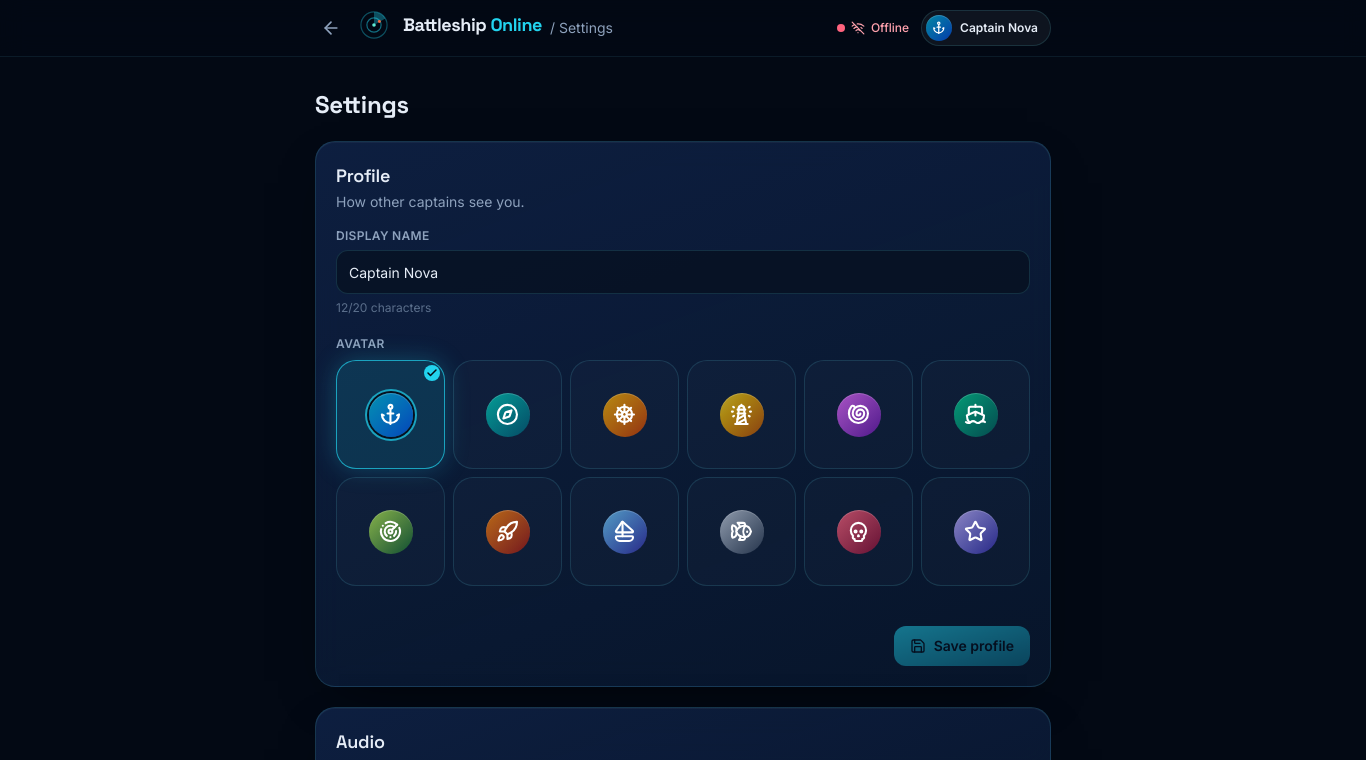
SettingsScreen › saves the profile via api.updateMe and updates the store
The width and height of the screenshot is (1366, 760).
Expected: the button "Save profile" is disabled, [894,626,1030,666]
Replace the text in the field labelled "Display name 12/20 characters" with "  Admiral Nova " at (683, 272), box [349,251,1017,293]
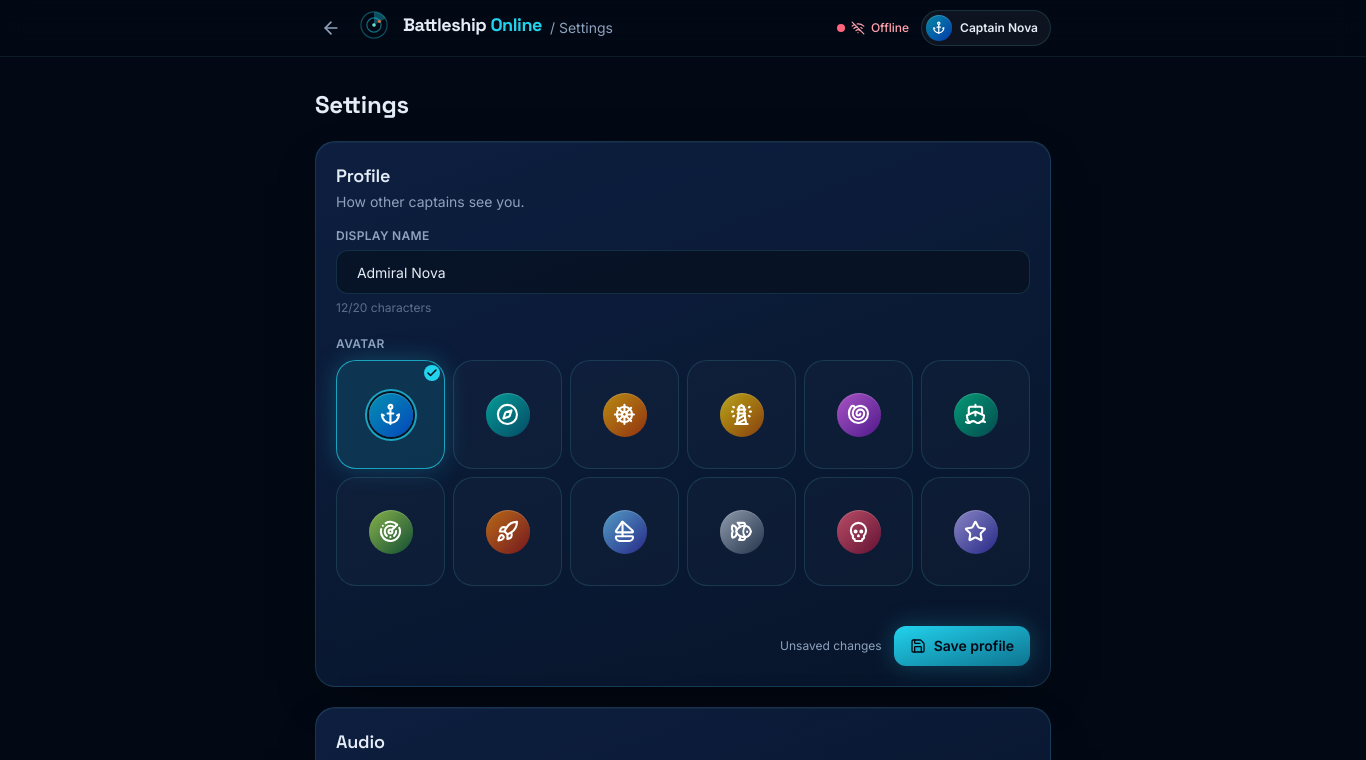
Click the radio button named "Jolly Roger" at (858, 532), box [804,477,913,586]
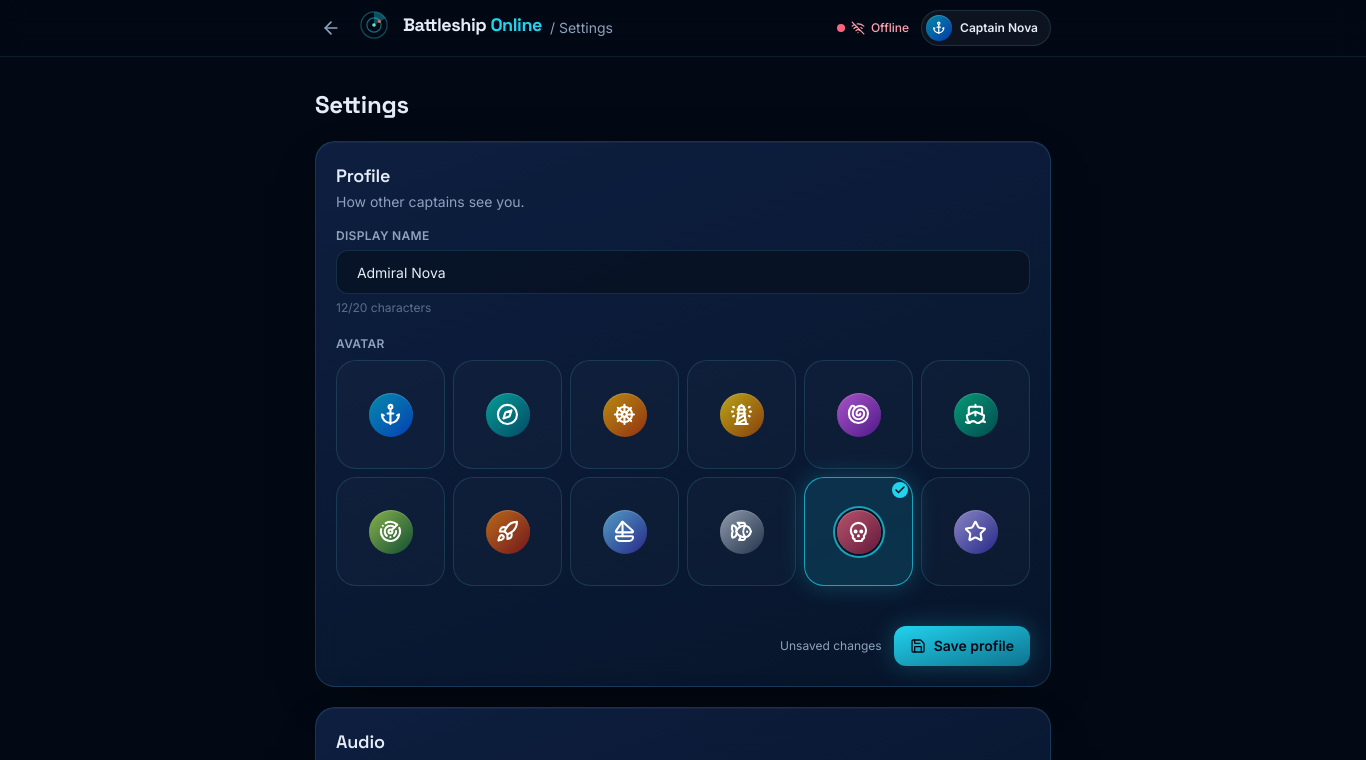
Expected: the button "Save profile" is enabled
Click the button "Save profile" at (962, 646), box [894,626,1030,666]
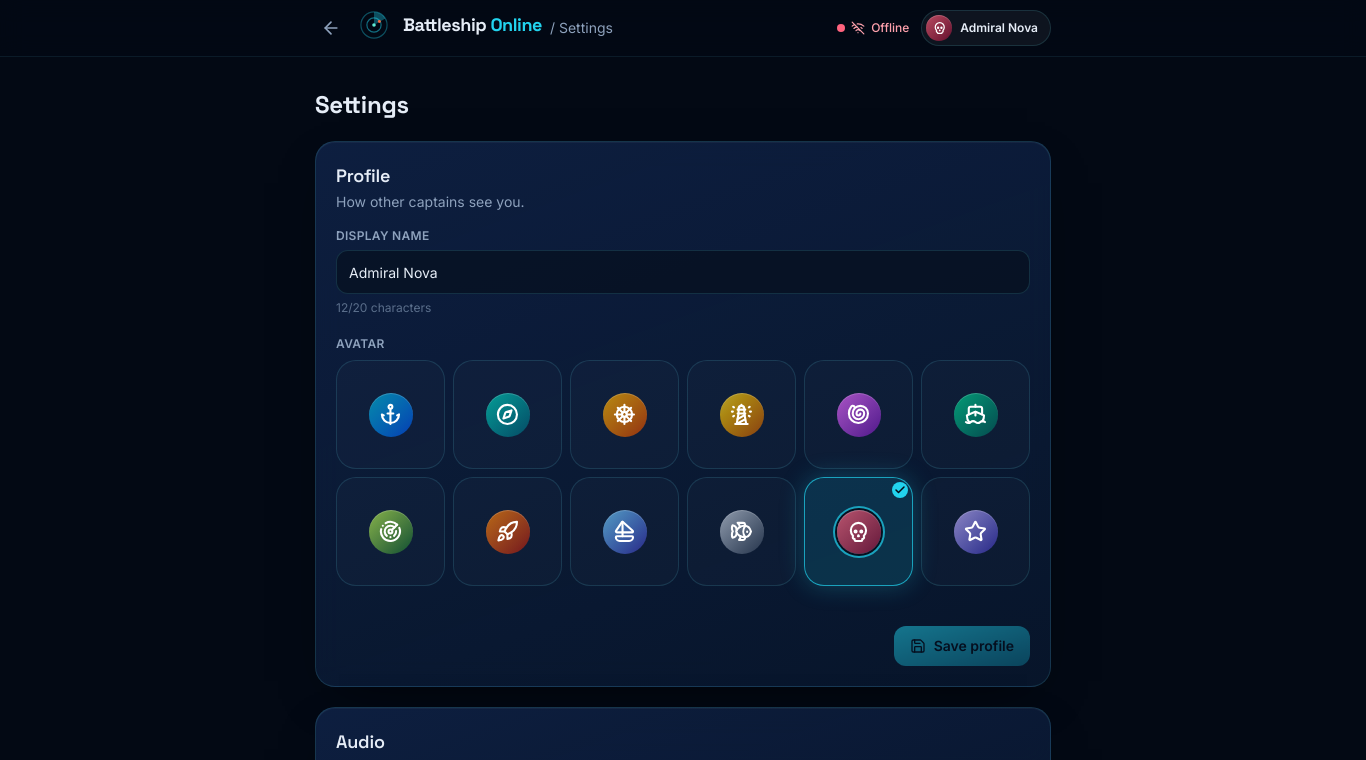
Expected: the text "Admiral Nova" is shown, [960,20,1038,36]
